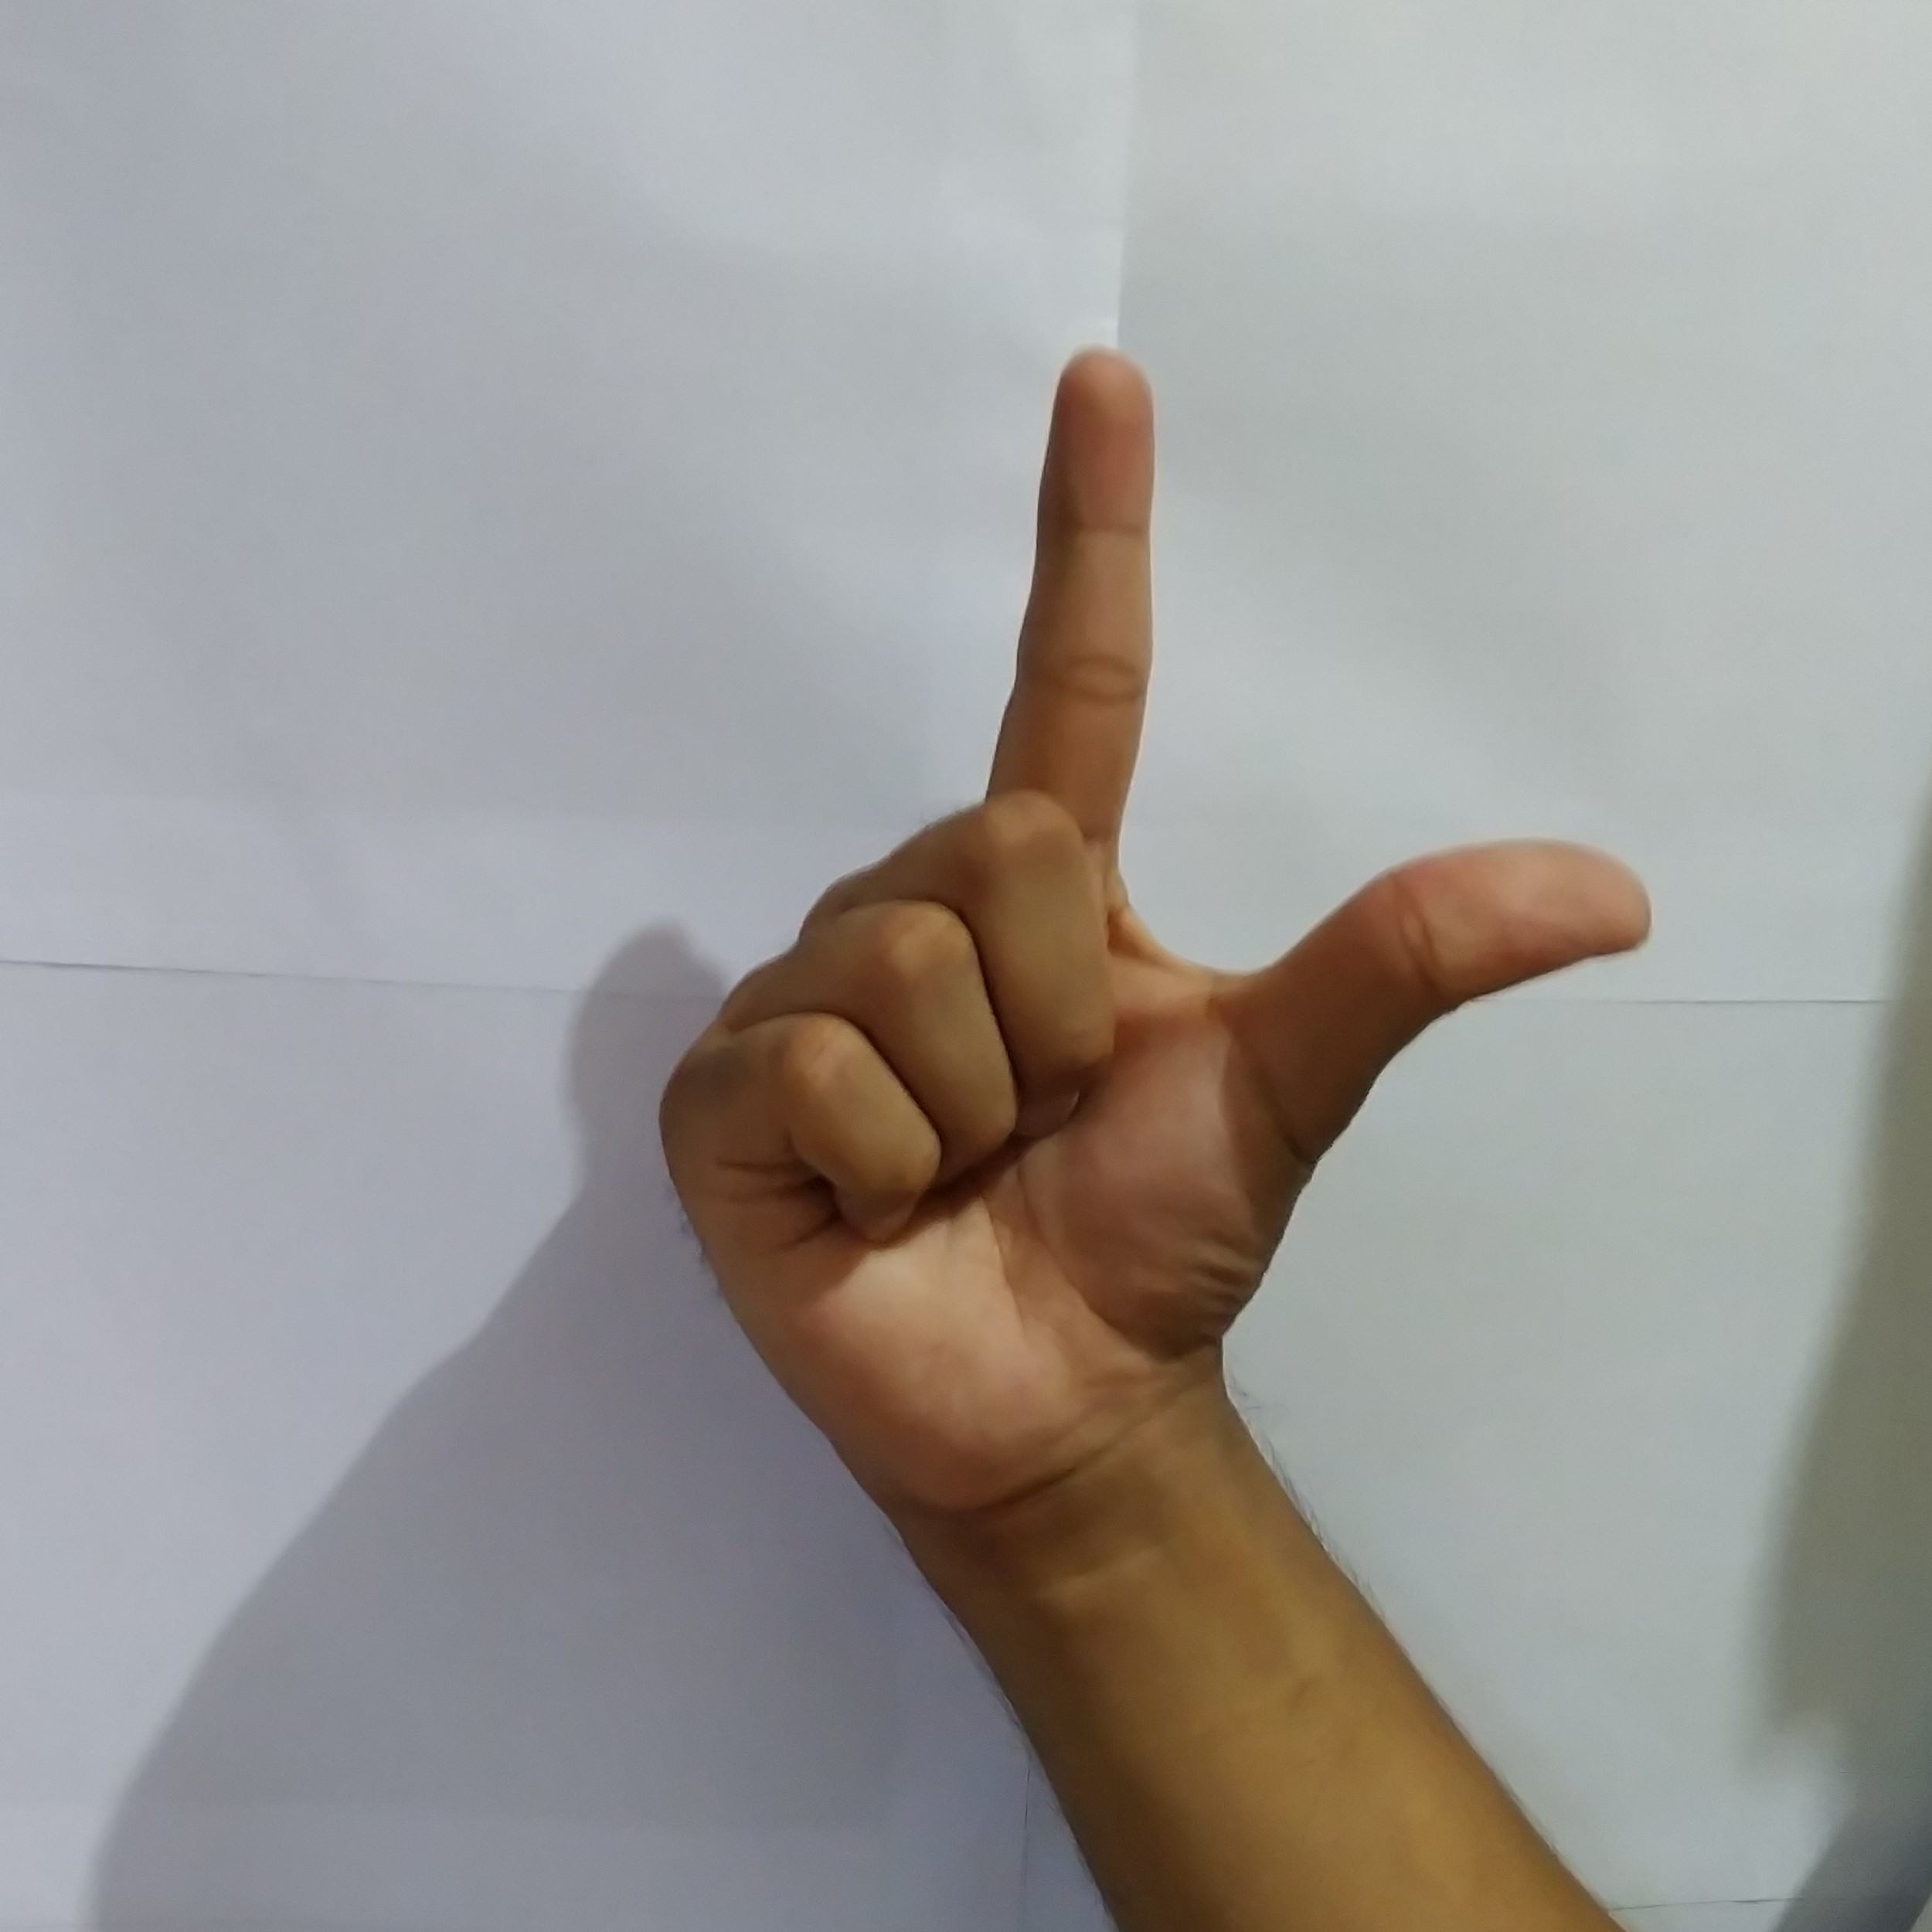L: (640, 324, 1672, 1437)
